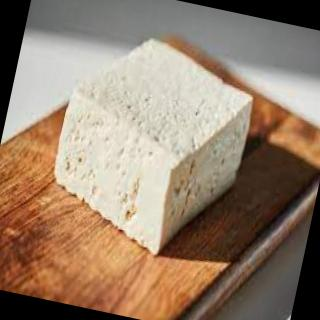Tahu: (38, 17, 284, 274)
